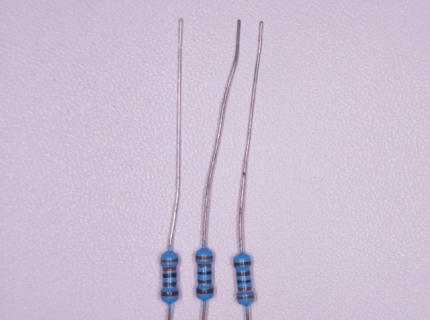Black band: (237, 279, 251, 283), (198, 271, 212, 275), (163, 273, 177, 277)
Brown band: (196, 288, 214, 294), (161, 291, 179, 296), (233, 261, 251, 266), (163, 281, 177, 286), (198, 279, 212, 284), (237, 271, 250, 276)
Orange band: (161, 258, 178, 263), (237, 295, 254, 300), (195, 255, 213, 259), (238, 286, 252, 291), (163, 267, 176, 271), (197, 264, 212, 267)
